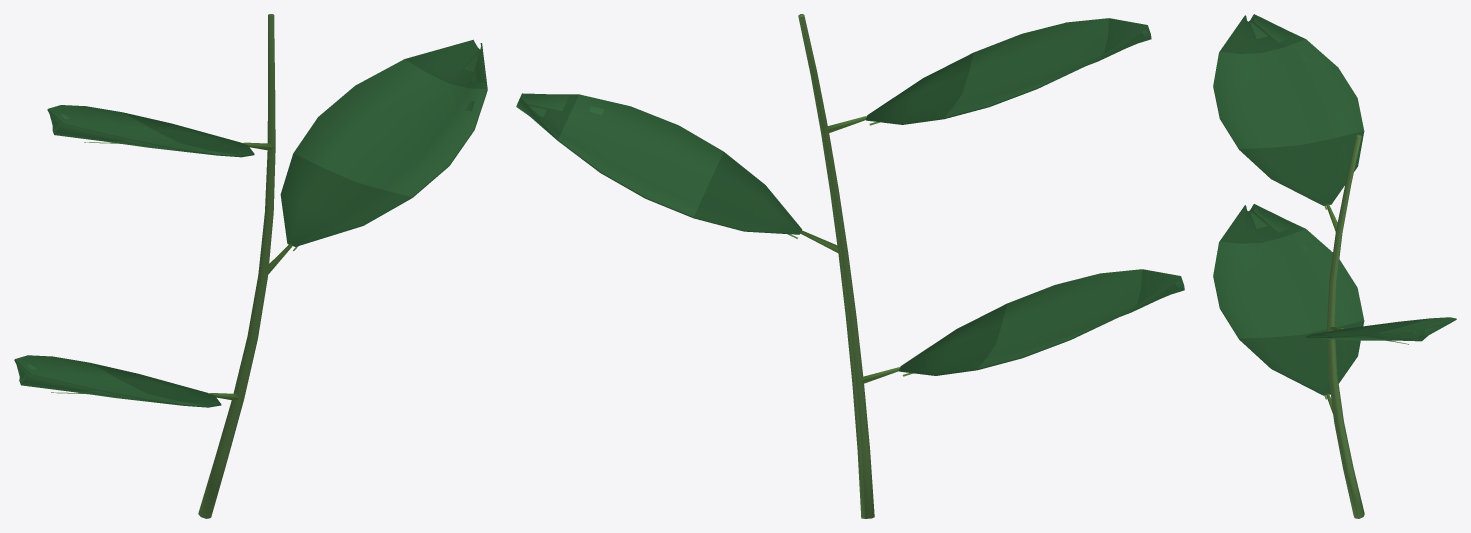
The model's file is garden-orchid-bloom-stem-2.glb.
3 views of the same model, side by side, from view 1: azimuth 30°, elevation 25°; view 2: azimuth 150°, elevation 25°; view 3: azimuth 270°, elevation 25° (orthographic). The views are drawn at different scales.
Visible parts, largest first — view 1: orchid-bloom-stem-2; view 2: orchid-bloom-stem-2; view 3: orchid-bloom-stem-2.
Boxes of the visible parts, <box> form: orchid-bloom-stem-2: <box>14,14,487,518</box>; orchid-bloom-stem-2: <box>516,14,1184,518</box>; orchid-bloom-stem-2: <box>1213,14,1456,518</box>.
Bounding box in the file's own units: 0.6542 × 0.5488 × 0.2921.
